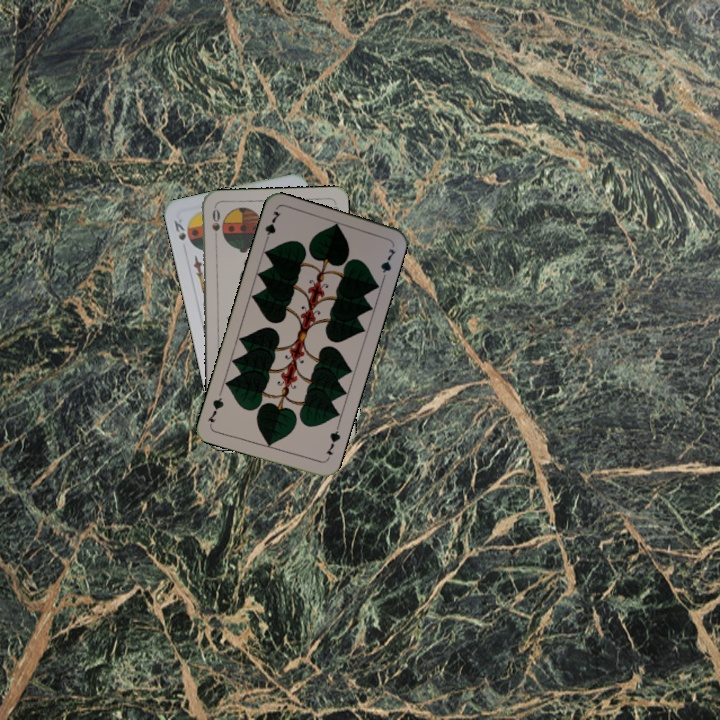G7: (261, 207, 284, 246), (322, 423, 343, 458)
SK: (170, 214, 188, 243)
SO: (208, 205, 223, 245)
